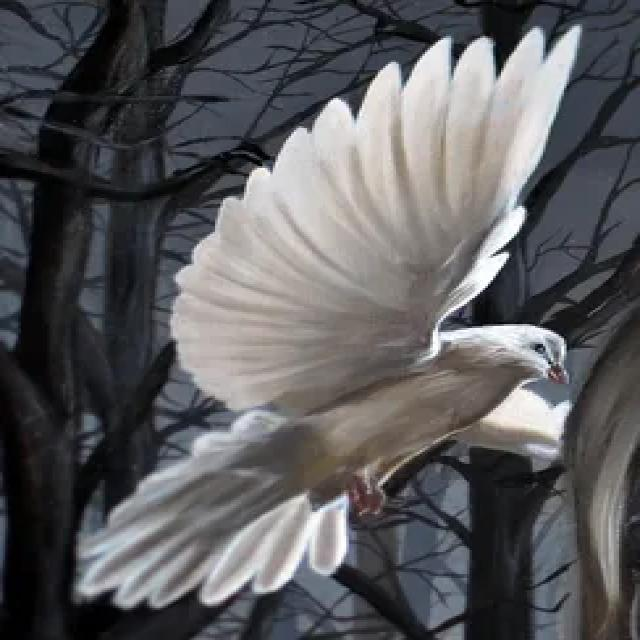pigeon: (57, 17, 590, 616)
